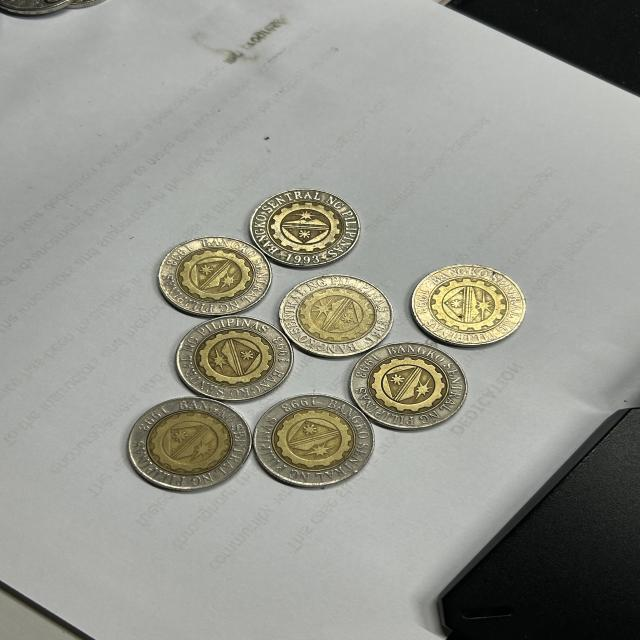10_Old_Back: (136, 403, 243, 490), (260, 395, 360, 484), (285, 279, 395, 352), (178, 322, 286, 396), (253, 194, 359, 269), (359, 346, 457, 421), (418, 268, 521, 338), (165, 243, 272, 308)
